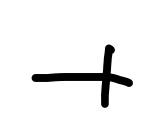plus: (23, 43, 132, 106)
